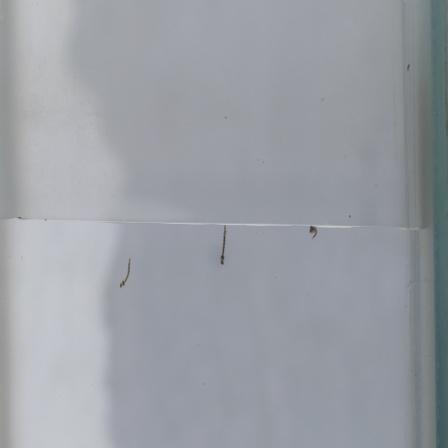Jentik-Nyamuk: (118, 254, 137, 293), (217, 218, 231, 268), (304, 223, 329, 246)
